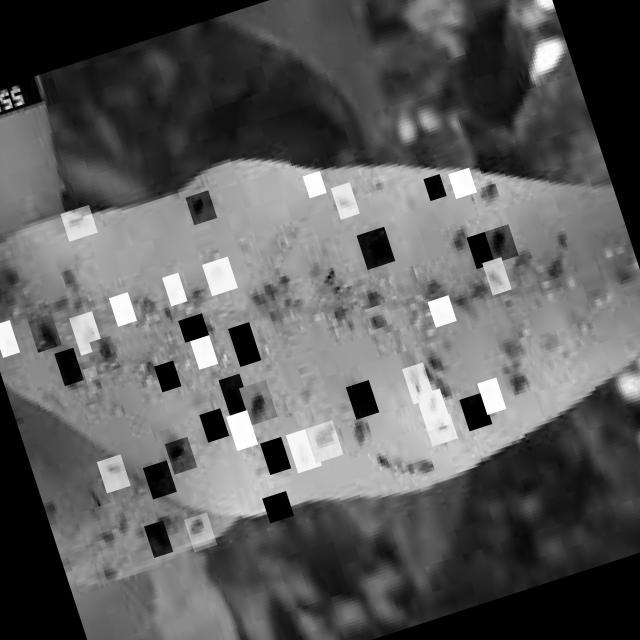aphid: (239, 380, 278, 426), (356, 227, 396, 270), (305, 420, 344, 463), (339, 416, 377, 460), (286, 428, 322, 473), (69, 310, 104, 356), (416, 388, 452, 431), (228, 322, 262, 367), (219, 374, 252, 418), (202, 256, 238, 296), (61, 204, 98, 242), (143, 460, 177, 500), (402, 362, 434, 404), (97, 454, 131, 493), (485, 224, 519, 263), (184, 512, 217, 552), (346, 380, 379, 420), (226, 410, 258, 451), (469, 178, 504, 215), (28, 314, 62, 352), (460, 392, 492, 432), (165, 436, 198, 474), (260, 437, 292, 475), (90, 336, 121, 374), (467, 231, 498, 269), (54, 348, 84, 387), (482, 257, 512, 296), (185, 190, 218, 225), (330, 182, 360, 220), (144, 520, 174, 558), (477, 377, 506, 415), (424, 414, 458, 446), (262, 491, 294, 523), (199, 408, 229, 442), (109, 292, 137, 327), (190, 335, 218, 370), (178, 313, 210, 343), (448, 167, 477, 199), (428, 296, 457, 328), (154, 360, 182, 392), (162, 272, 188, 306), (140, 356, 165, 389), (365, 302, 393, 330), (0, 320, 20, 358), (303, 171, 327, 198), (424, 174, 446, 201), (83, 366, 103, 394)
